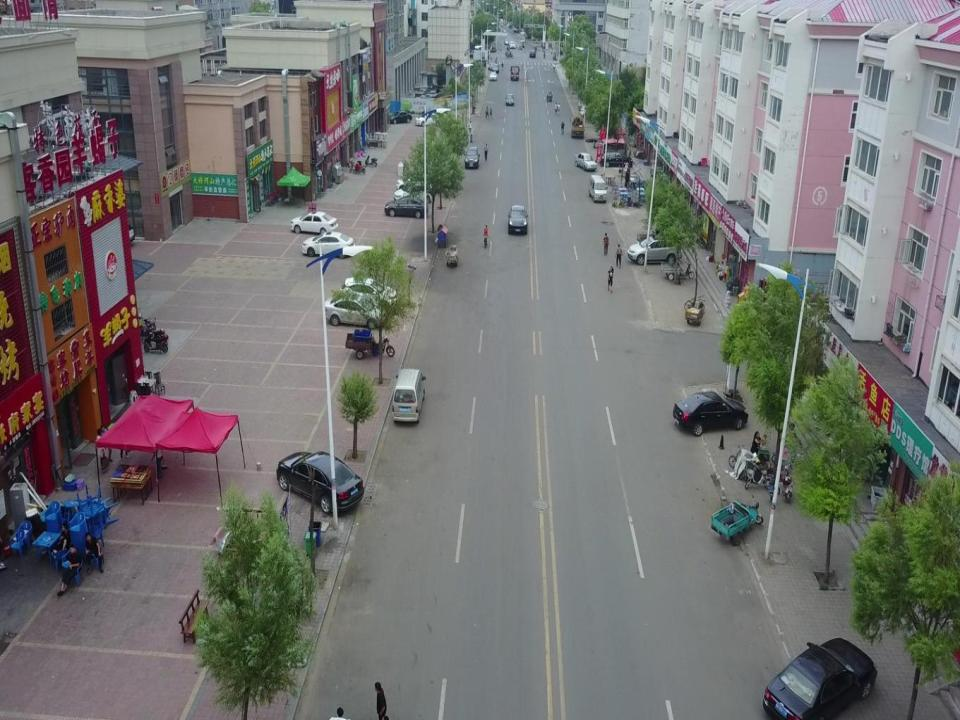car: (762, 636, 877, 719), (276, 451, 364, 512), (673, 390, 748, 436), (324, 293, 388, 330), (341, 276, 397, 310), (626, 236, 678, 266), (301, 230, 355, 258), (290, 212, 338, 236), (386, 196, 428, 217), (393, 184, 431, 206), (396, 174, 430, 193), (600, 152, 633, 170), (508, 206, 528, 234), (574, 152, 597, 172), (464, 145, 480, 168), (386, 110, 412, 123), (580, 106, 599, 118), (506, 94, 514, 106), (489, 71, 498, 81)
truck: (570, 116, 584, 138), (510, 66, 520, 81)
van: (392, 369, 426, 423), (414, 107, 452, 126), (588, 174, 608, 202)
